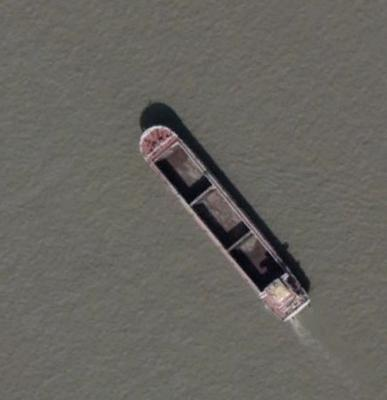Boat: (99, 110, 336, 392)
